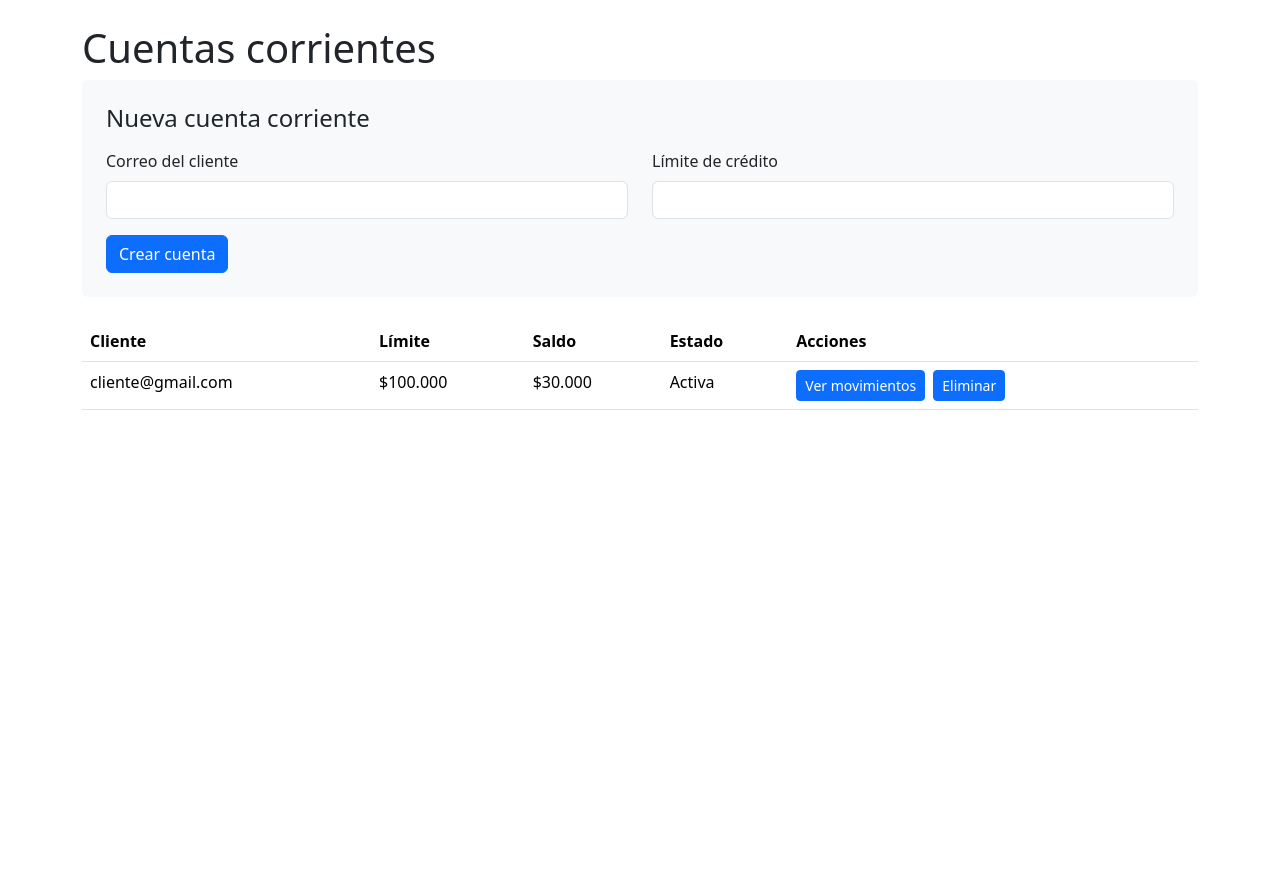
Test: AdminCuentas › muestra los movimientos de una cuenta y rebaja el saldo al registrar un pago
Click the button "Ver movimientos": (861, 385) [796,370,925,401]
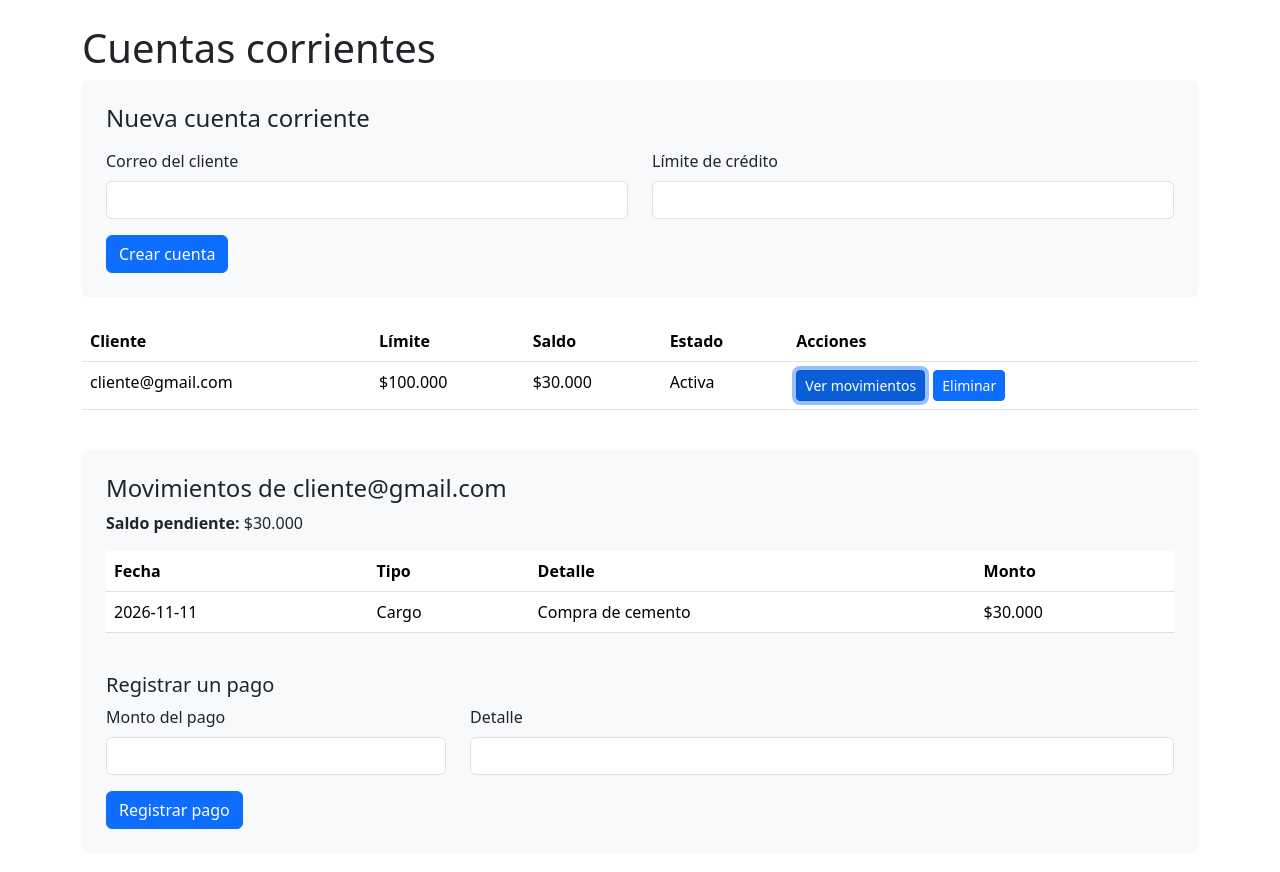
expect the text "Compra de cemento" is shown: met, box [530,591,976,632]
In the number field labelled "Monto del pago": (276, 756) [106,737,446,775], type "10000"
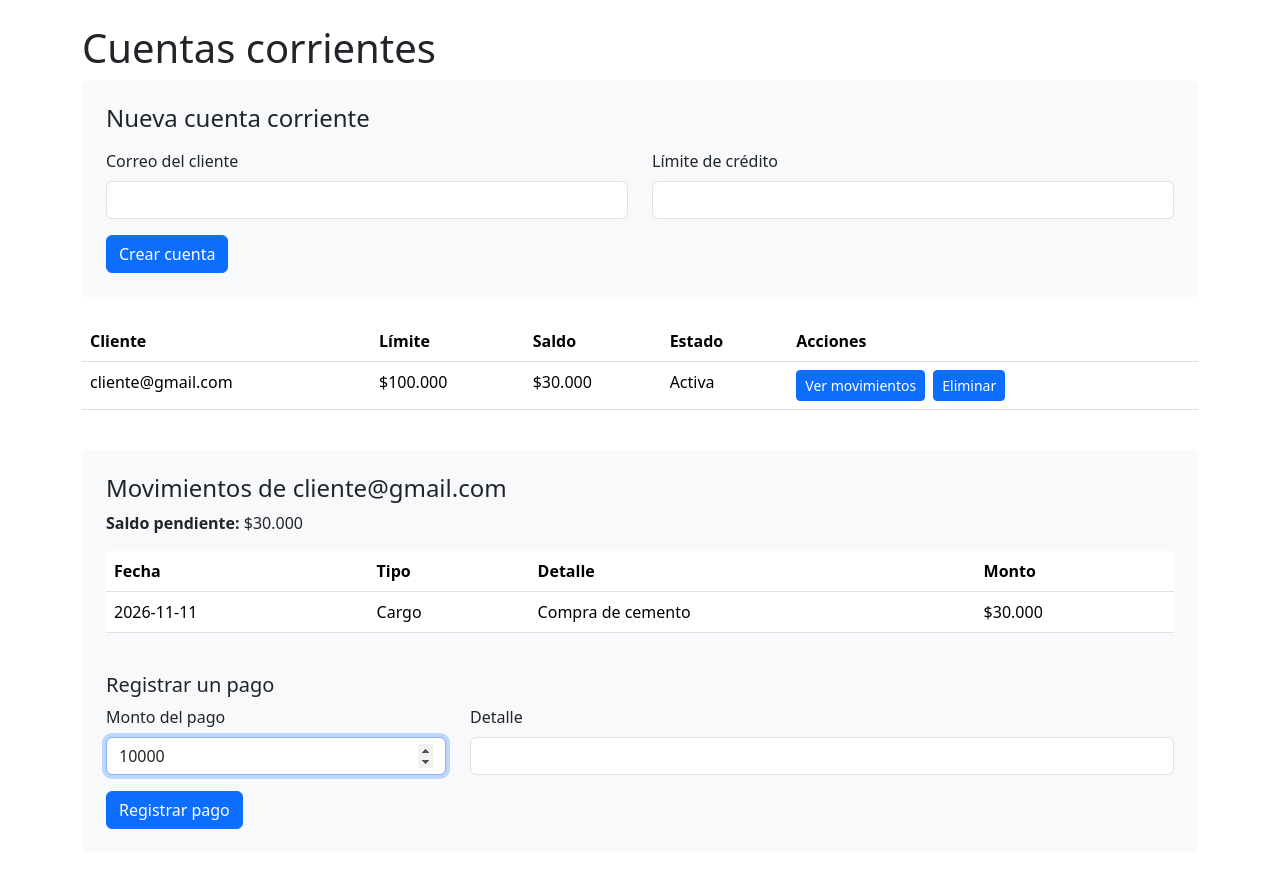
In the field labelled "Detalle": (822, 756) [470,737,1174,775], type "Pago parcial"
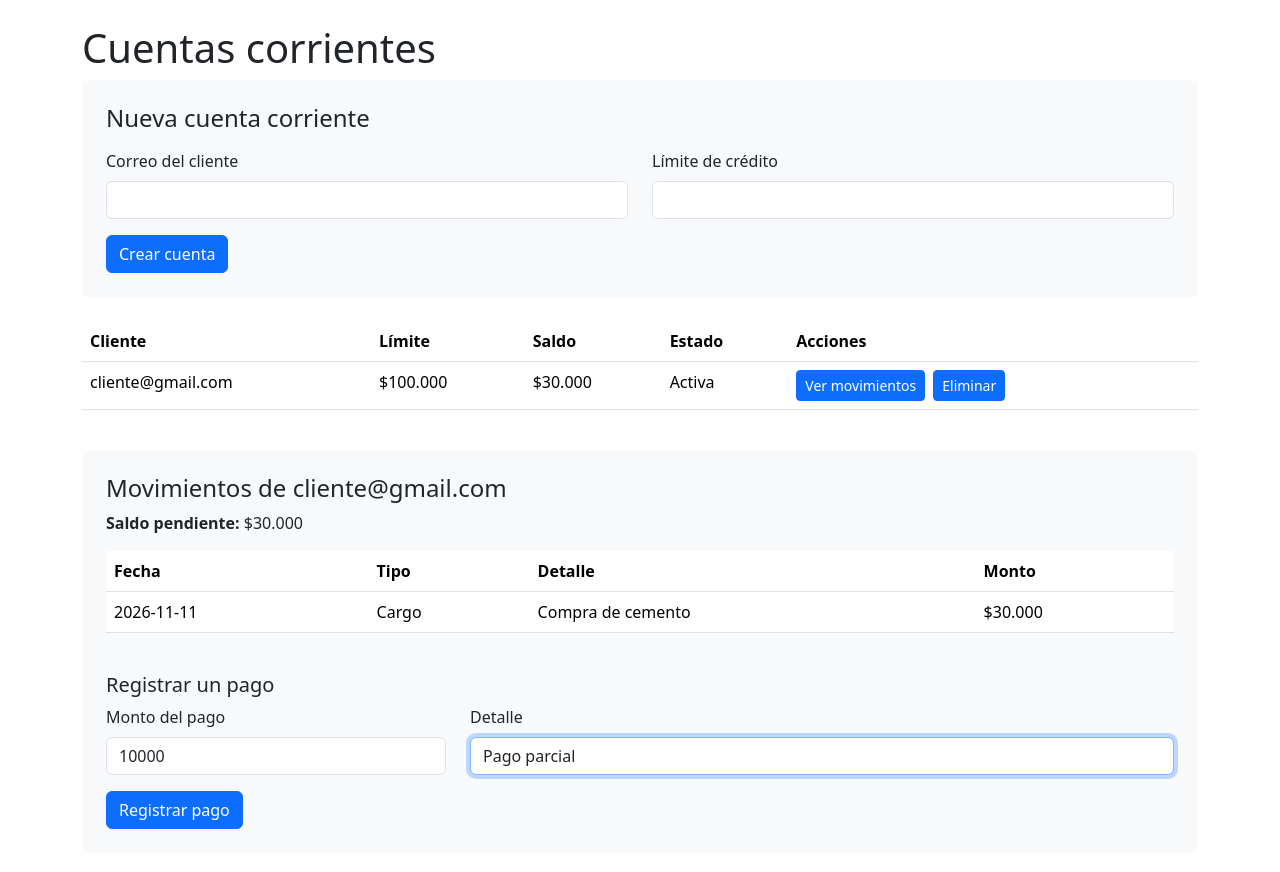
Click the button "Registrar pago": (174, 810) [106,791,243,829]
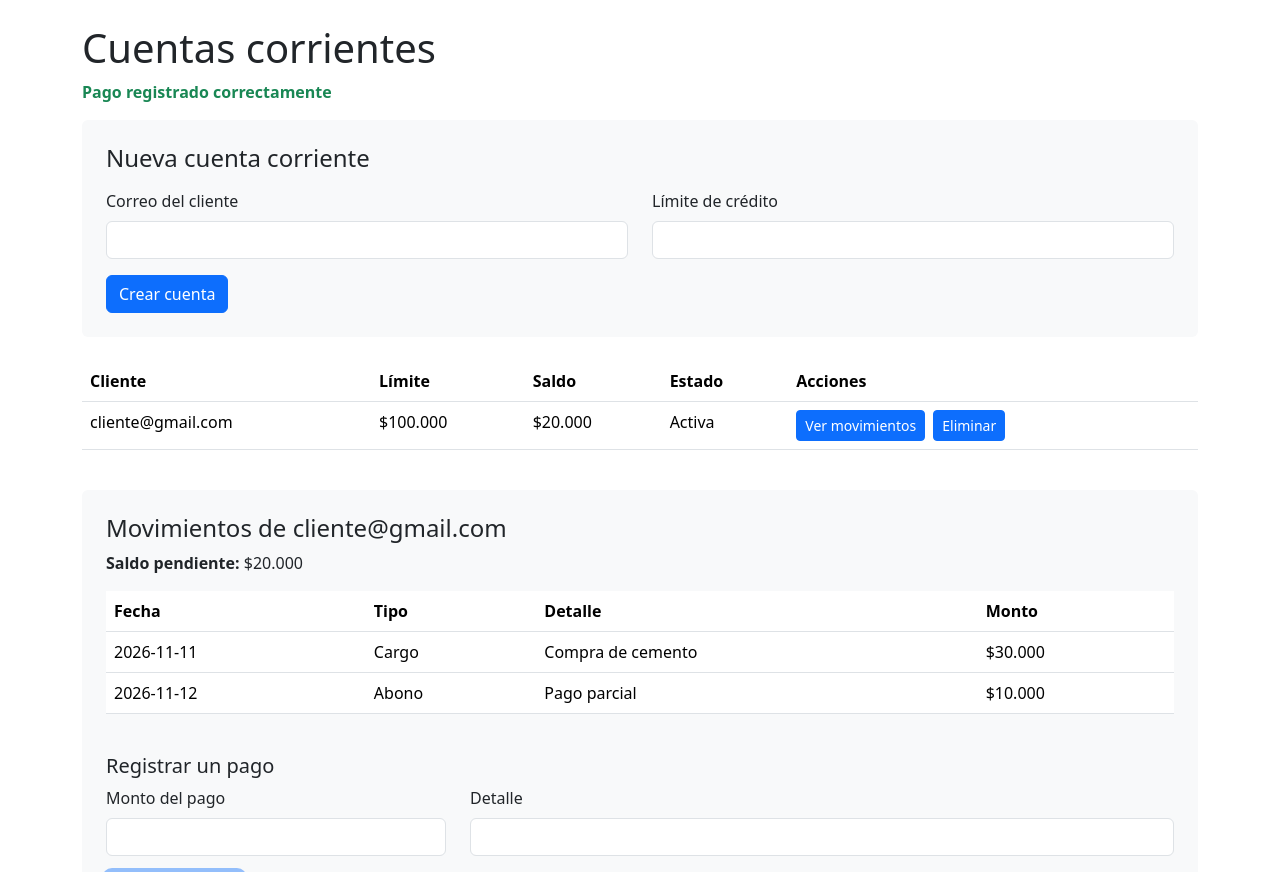
expect the text "Pago registrado correctamente" is shown: met, box [82,81,332,103]
expect the text "Abono" is shown: met, box [366,672,536,713]
expect the element showing "Saldo pendiente: $20.000" is shown: met, box [106,552,303,574]
